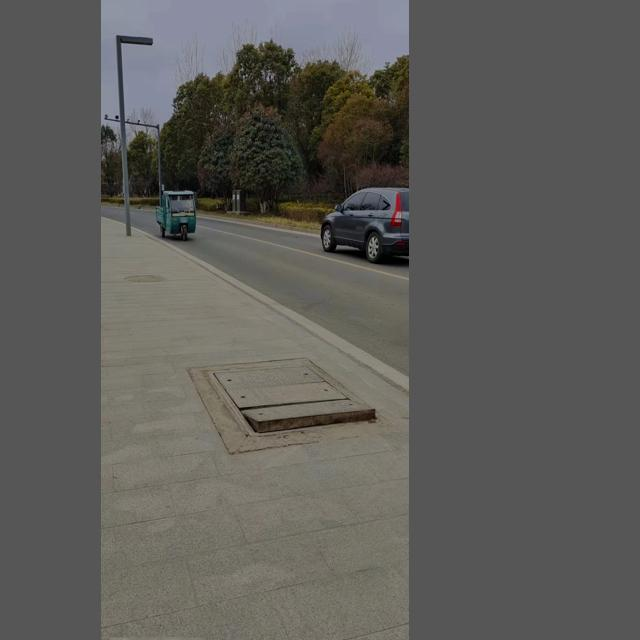uncovered: (202, 358, 377, 439)
